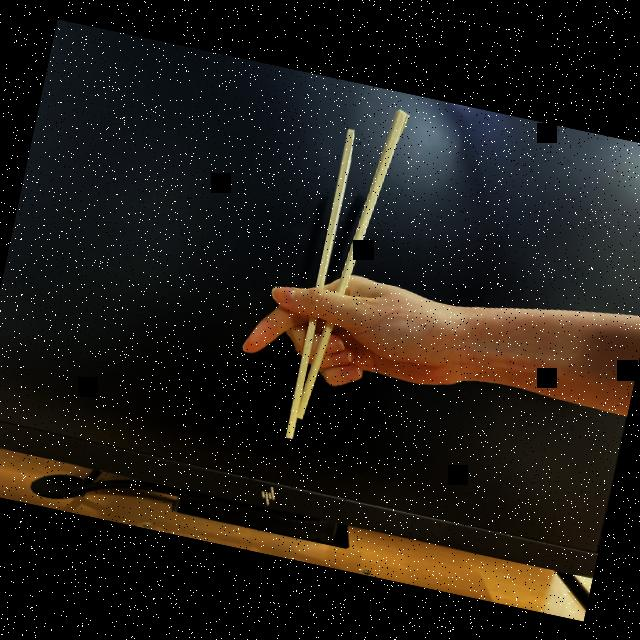stick: (225, 87, 470, 464)
